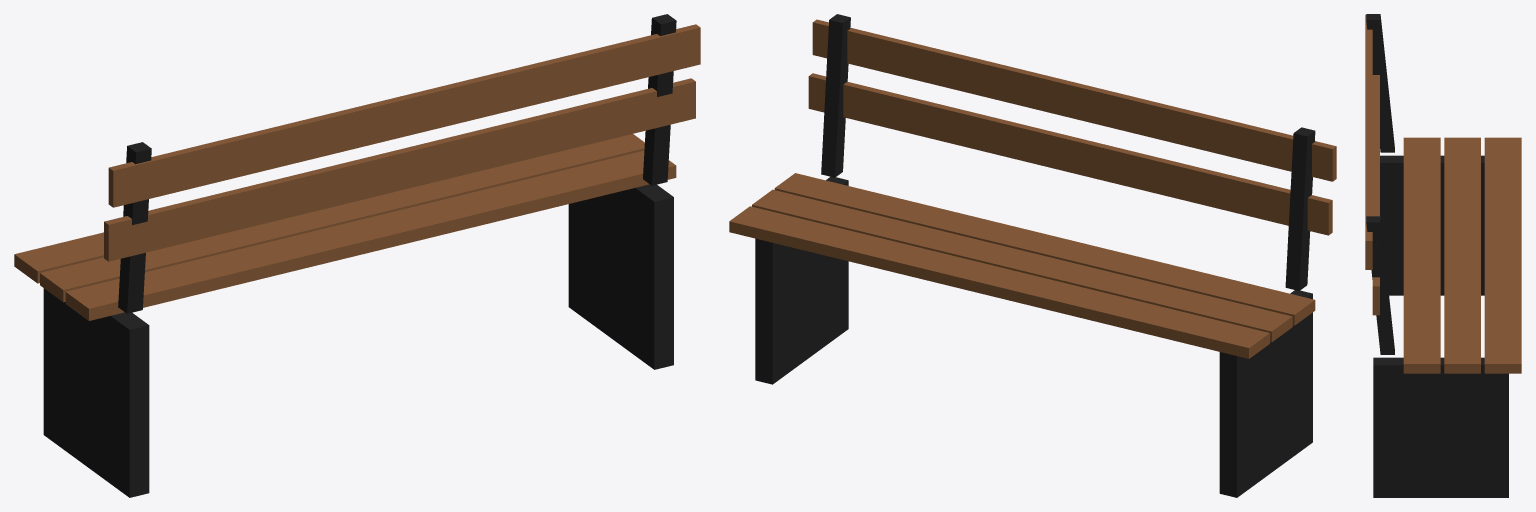
Rendered from parametric-bench-3rd.glb.
3 views of the same model, side by side, from view 1: azimuth 30°, elevation 25°; view 2: azimuth 150°, elevation 25°; view 3: azimuth 270°, elevation 25° (orthographic). The views are drawn at different scales.
Parts seen in each view (by area): view 1: parametric-bench-3rd; view 2: parametric-bench-3rd; view 3: parametric-bench-3rd.
Part boxes in pixels (x1,y1,x2,y2): parametric-bench-3rd: (14,14,700,497); parametric-bench-3rd: (729,14,1336,497); parametric-bench-3rd: (1365,14,1521,497).
Size of the model in its own units: 1.5 by 0.85 by 0.4374.
